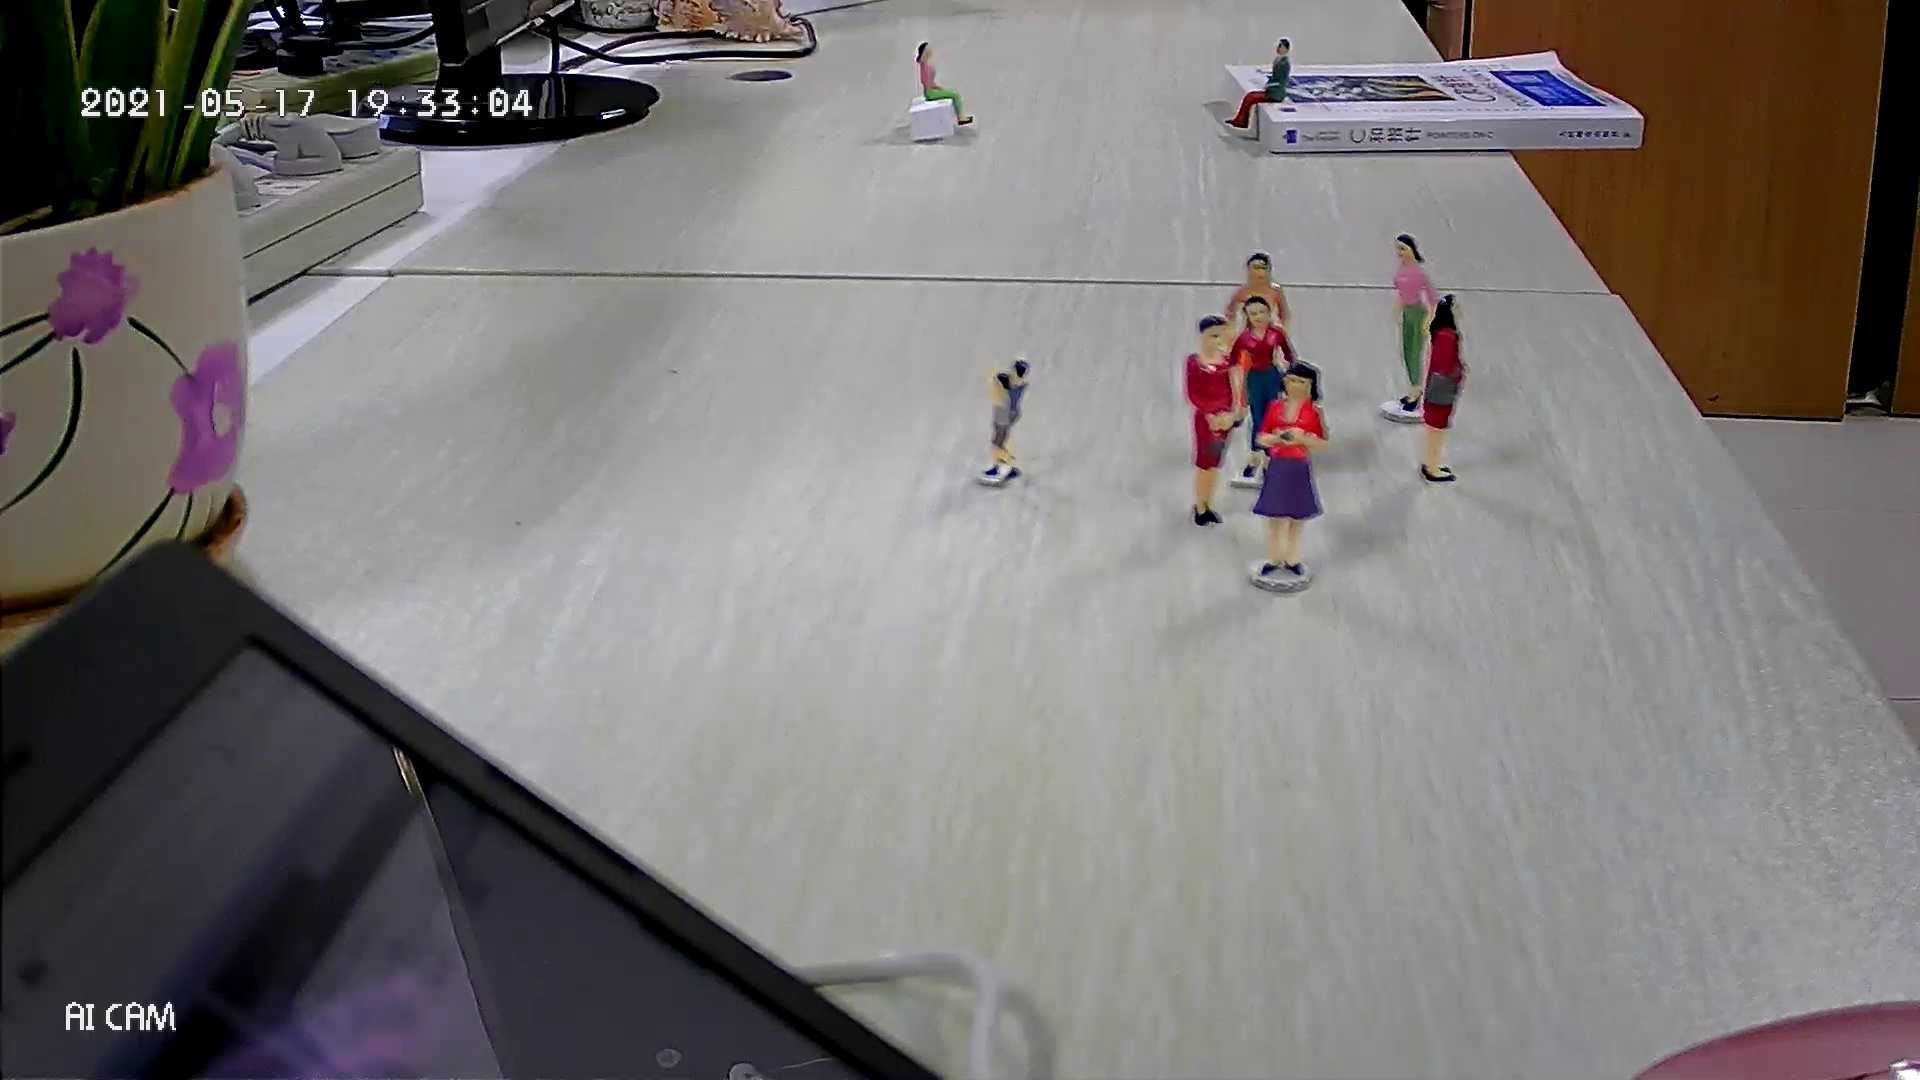person: (1255, 361, 1332, 578), (1226, 296, 1300, 479), (1181, 313, 1242, 527), (1224, 249, 1295, 429), (1387, 232, 1441, 415), (1419, 293, 1469, 483), (1220, 37, 1293, 131), (914, 40, 977, 128), (982, 358, 1022, 480), (989, 357, 1032, 466)
